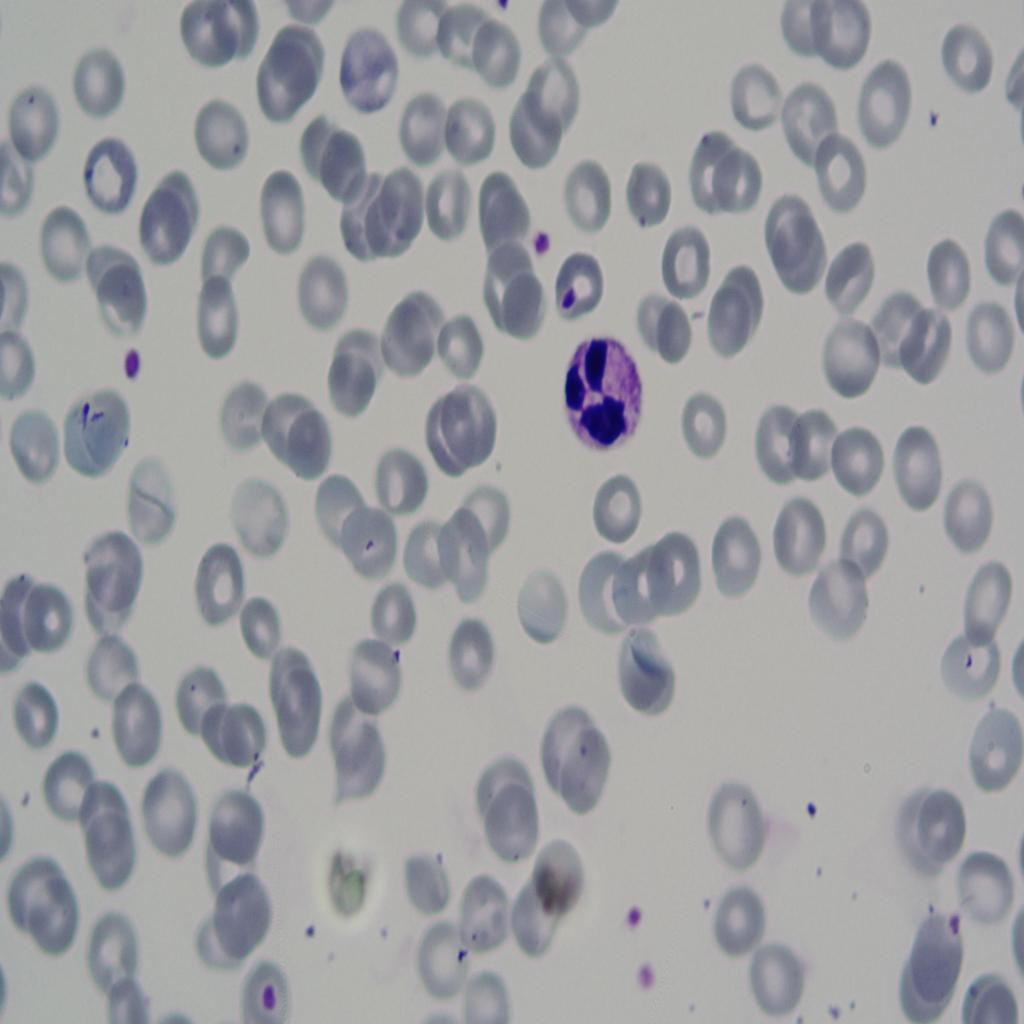Neutrofil: (560, 316, 645, 461)
Platelet: (114, 335, 148, 396), (795, 777, 822, 842), (530, 218, 559, 276), (628, 956, 662, 1003), (618, 889, 646, 945), (249, 970, 279, 1020), (554, 272, 584, 318), (295, 897, 324, 937)
